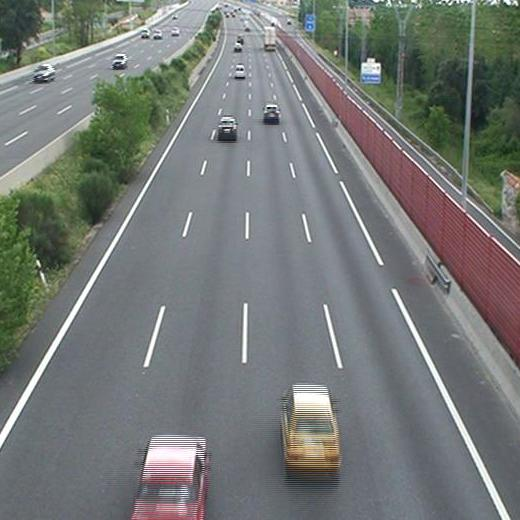car: (129, 437, 208, 520), (282, 386, 341, 469), (219, 117, 236, 138), (263, 105, 279, 119), (234, 65, 245, 79), (234, 43, 242, 52)
truck: (265, 27, 275, 49)
